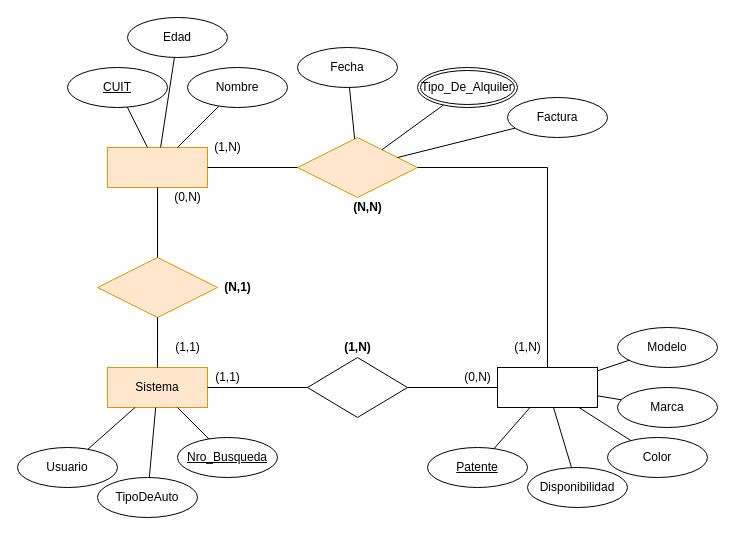
This 735x535 diagram has some shape labels left out. The box of each missing label's shape, as (x1, y1, x2, y2) in pixels:
Alquila: (296, 136, 418, 198)
Auto: (496, 366, 598, 408)
Busca: (96, 256, 218, 318)
Cliente: (106, 146, 208, 188)
Consulta: (306, 356, 408, 418)
